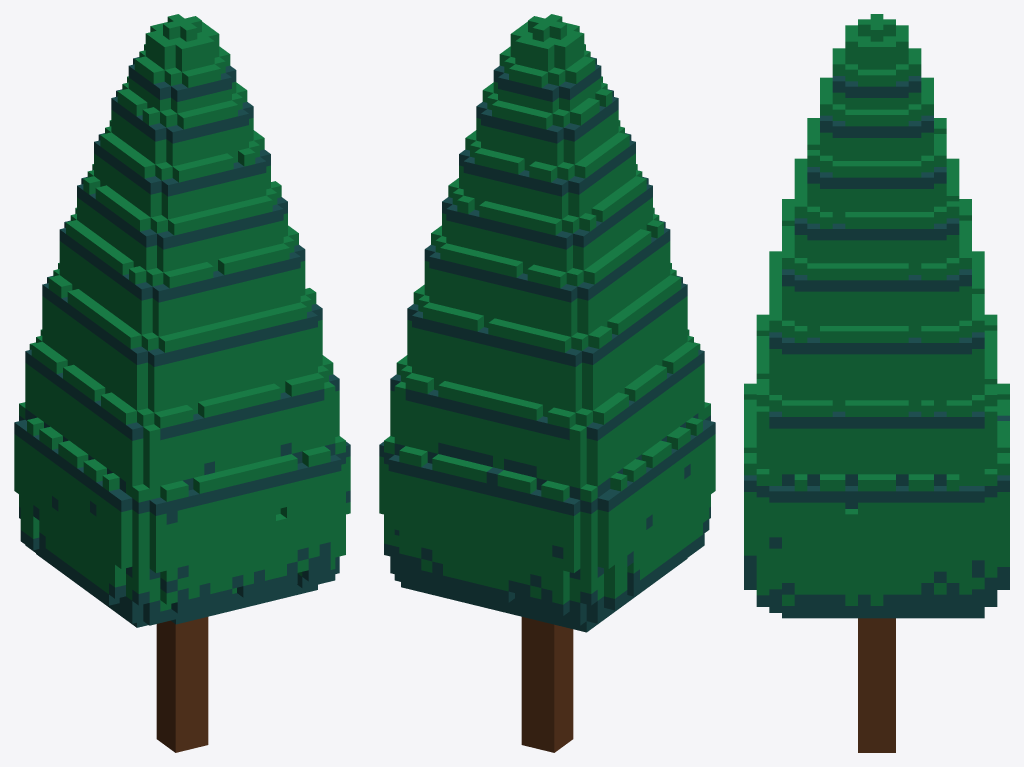
Rendered from HedgePineTree.fbx.
3 renders of one model, left to right at view 1: azimuth 30°, elevation 25°; view 2: azimuth 150°, elevation 25°; view 3: azimuth 270°, elevation 25°, orthographic.
Visible parts, largest first — view 1: HedgePineTree; view 2: HedgePineTree; view 3: HedgePineTree.
Part boxes in pixels (left/top/right/bottom): HedgePineTree: left=14, top=14, right=350, bottom=752; HedgePineTree: left=379, top=14, right=715, bottom=752; HedgePineTree: left=744, top=14, right=1009, bottom=752.
Size of the model in its own units: 210 by 630 by 210.
